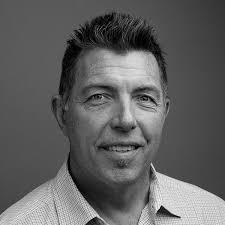Persons: (35, 3, 191, 198)
